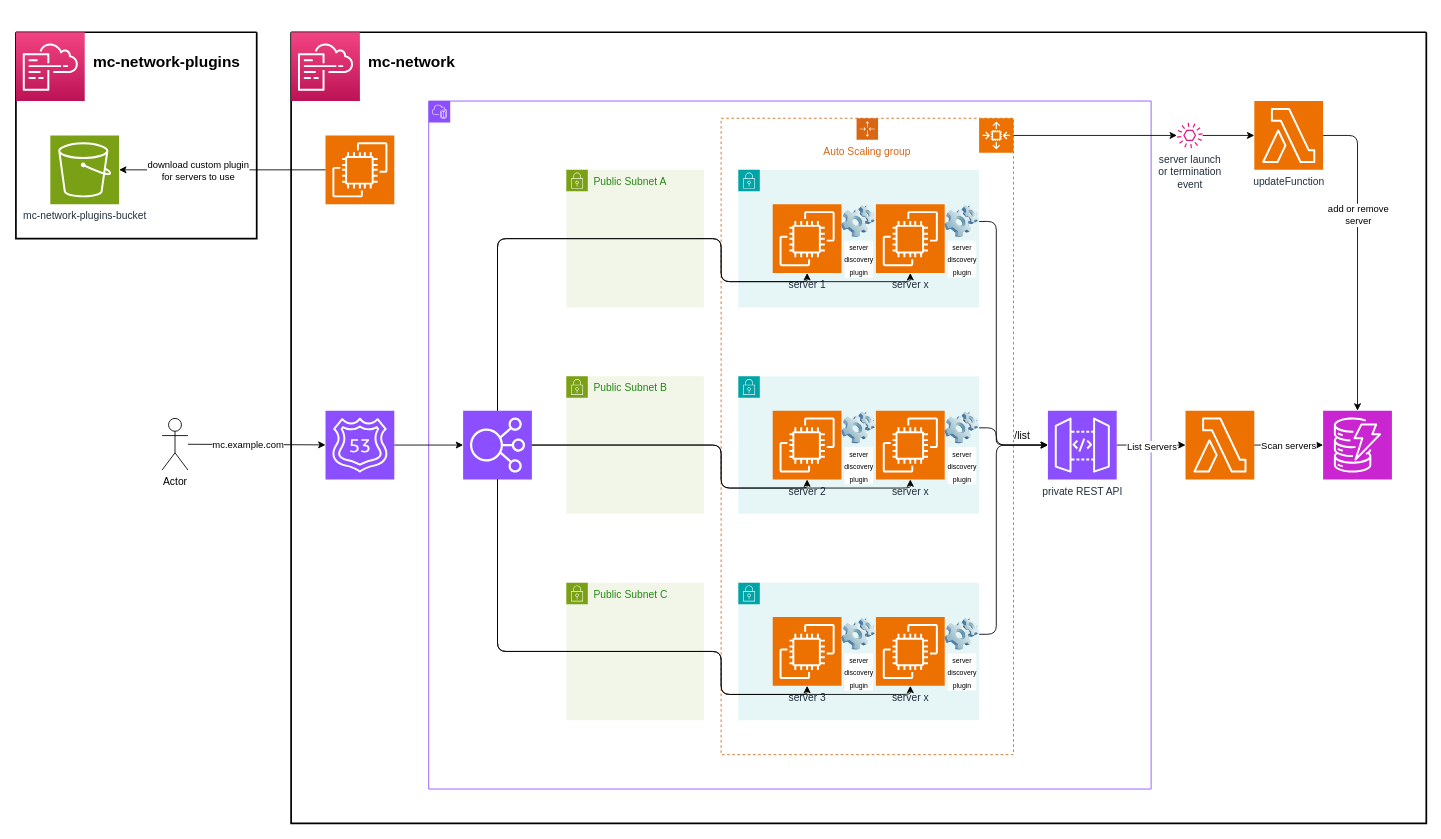
The diagram is 1441 pixels wide and 839 high, and some of its shapes have lost their labels. The shapes that lost their labels are listed below. From the top down, each one's box as (x1, y1, x2, y2) in pixels, then its label:
(978, 117, 1014, 153): EC2 scaling group
(325, 135, 394, 204): minecraft launch template
(737, 169, 979, 307): Private Subnet A
(325, 410, 394, 479): Route 53 record
(462, 410, 532, 479): Network Load balancer
(428, 100, 1151, 789): VPC
(737, 375, 979, 514): Private Subnet B
(1185, 410, 1254, 479): ListFunction
(1322, 410, 1392, 479): serversTable
(737, 582, 979, 720): Private Subnet C
